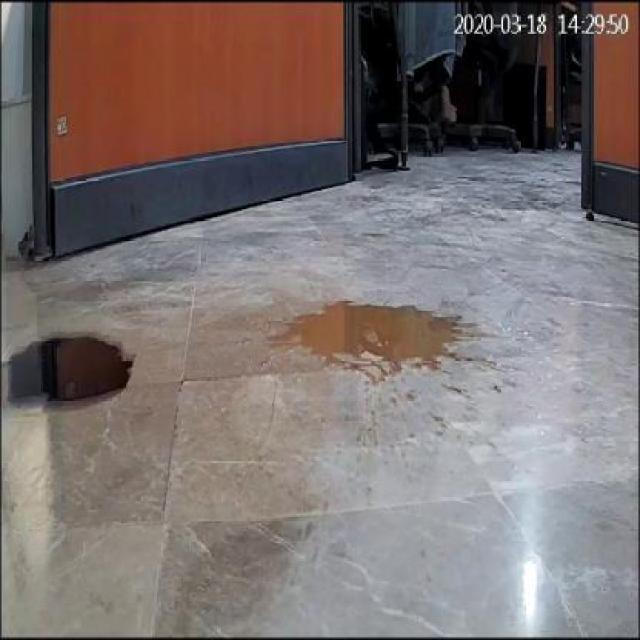spill: (278, 298, 454, 377), (3, 334, 142, 408)
